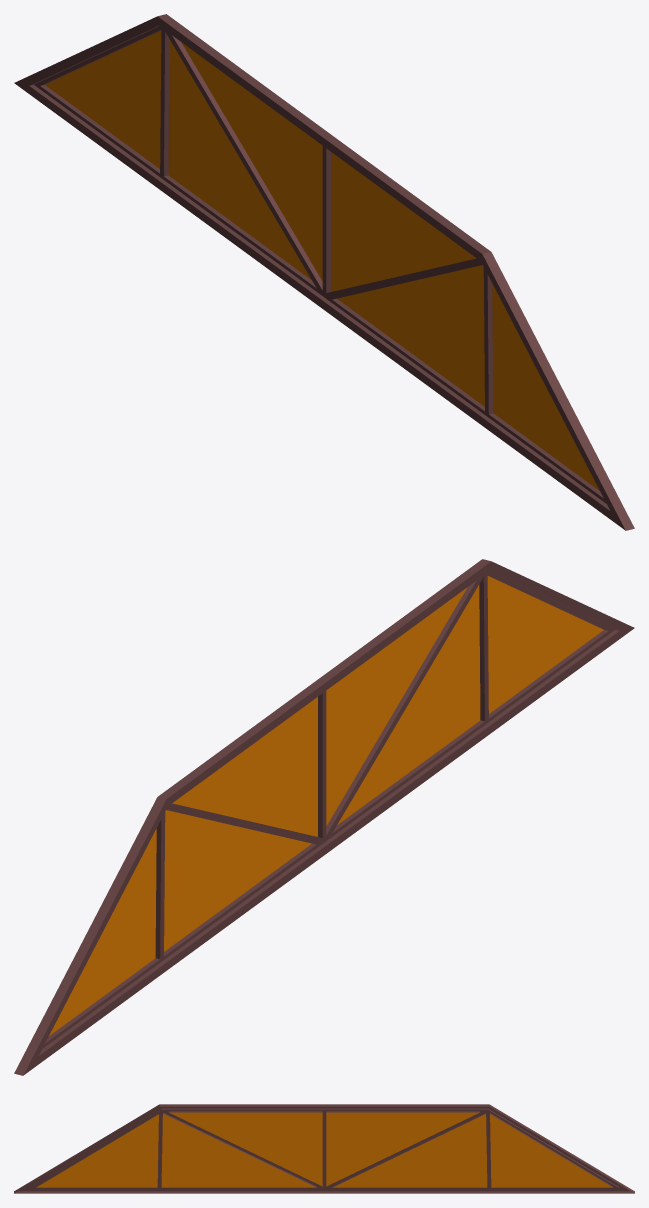
The picture shows the model from 3 angles, top to bottom: view 1: azimuth 30°, elevation 25°; view 2: azimuth 150°, elevation 25°; view 3: azimuth 270°, elevation 25°; orthographic projection. The views are drawn at different scales.
Parts seen in each view (by area): view 1: polySurface66; view 2: polySurface66; view 3: polySurface66.
Boxes of the visible parts, x1,y1,x2,y2 form: polySurface66: (14, 14, 634, 530); polySurface66: (14, 559, 634, 1075); polySurface66: (14, 1104, 634, 1193).
Bounding box in the file's own units: 6.85 × 124 × 798.
